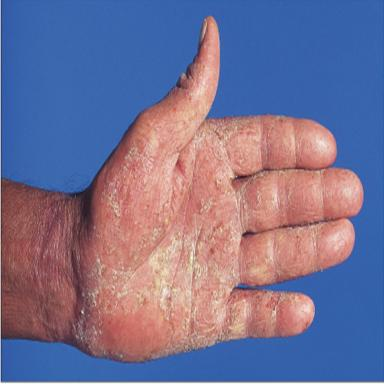eczema: (74, 17, 362, 361)
